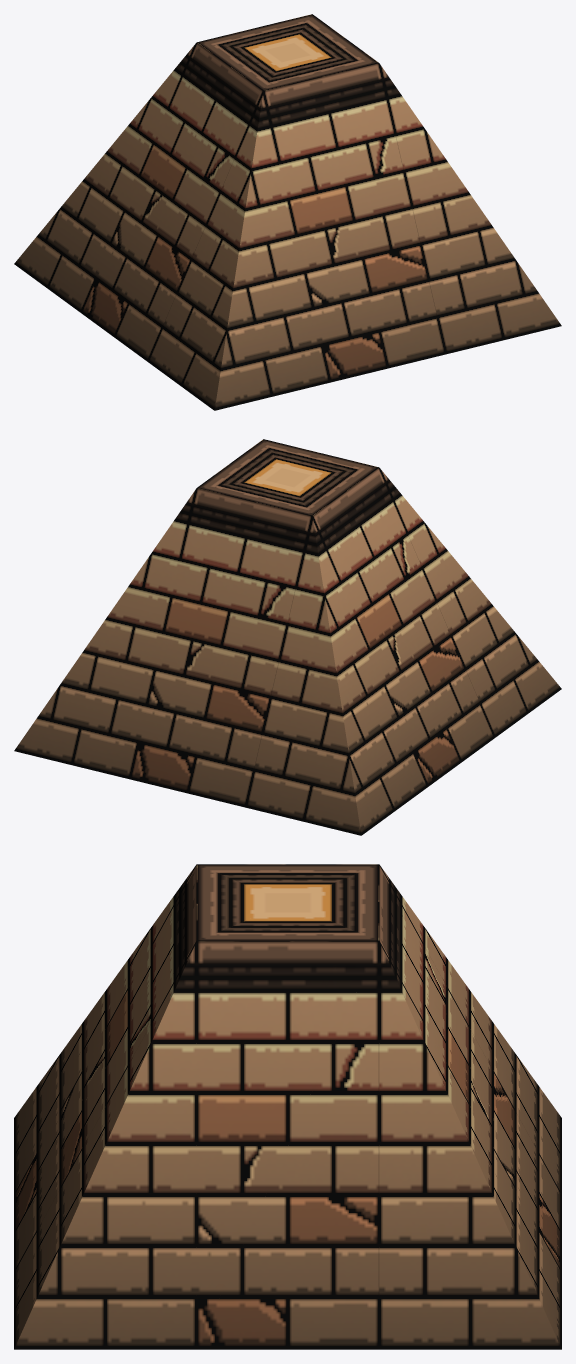
Rendered from wall_isle.FBX.
3 renders of one model, top to bottom at view 1: azimuth 30°, elevation 25°; view 2: azimuth 150°, elevation 25°; view 3: azimuth 270°, elevation 25°, orthographic. The views are drawn at different scales.
Visible parts, largest first — view 1: wall_isle; view 2: wall_isle; view 3: wall_isle.
Part boxes in pixels (x1,y1,x2,y2): wall_isle: [14, 14, 561, 410]; wall_isle: [14, 439, 561, 835]; wall_isle: [14, 864, 561, 1349].
Size of the model in its own units: 6 by 4 by 6.
1 material, 1 textured.
